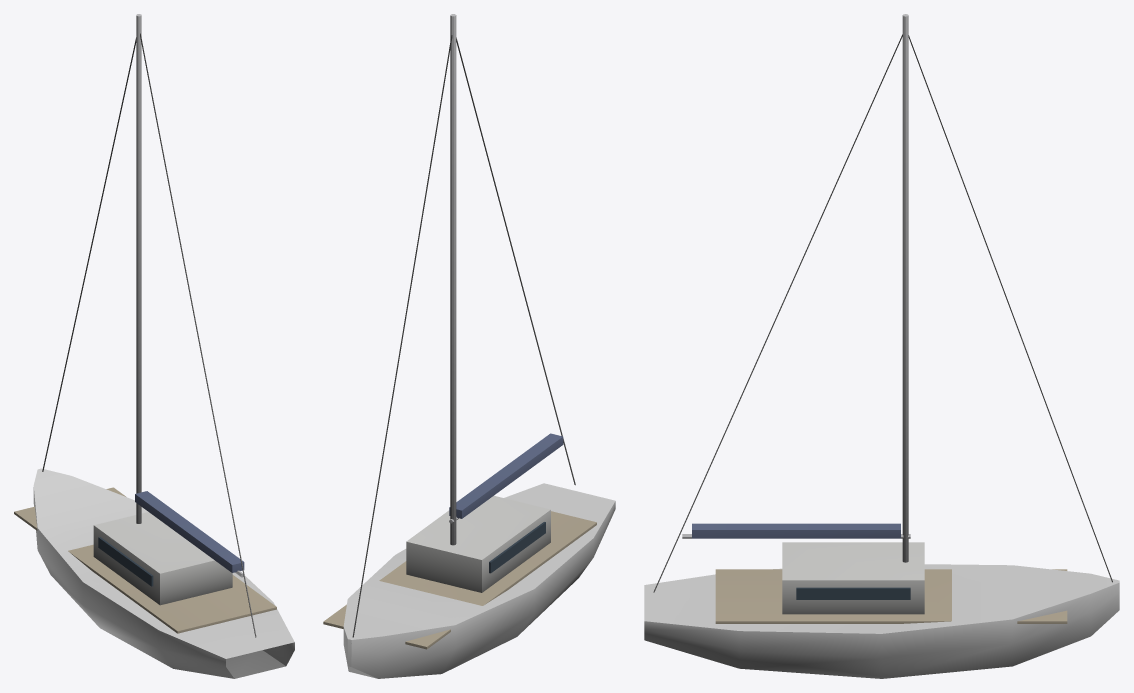
Rendered from boot_liege.glb.
3 renders of one model, left to right at view 1: azimuth 30°, elevation 25°; view 2: azimuth 150°, elevation 25°; view 3: azimuth 270°, elevation 25°, orthographic. The views are drawn at different scales.
Visible parts, largest first — view 1: lack, farbe, glas; view 2: lack, farbe, glas; view 3: farbe, lack, glas.
Part boxes in pixels (<box>): lack: <box>14,14,276,637</box>; farbe: <box>33,468,294,678</box>; glas: <box>98,537,153,586</box>; lack: <box>323,14,596,649</box>; farbe: <box>343,483,615,678</box>; glas: <box>489,522,545,573</box>; farbe: <box>644,564,1119,678</box>; lack: <box>653,14,1112,623</box>; glas: <box>796,587,910,599</box>.
Size of the model in its own units: 3.5 by 14.8 by 10.
